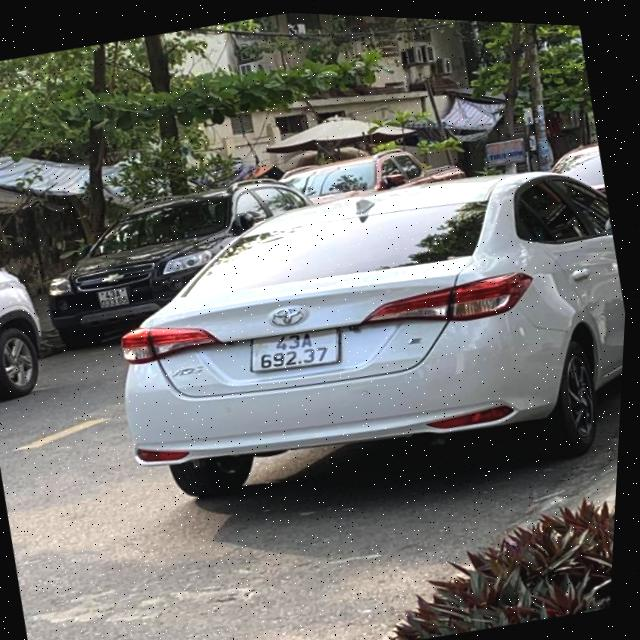car: (84, 101, 635, 545), (26, 168, 284, 368), (0, 195, 68, 416)
plate: (236, 310, 353, 388), (91, 277, 137, 316)
